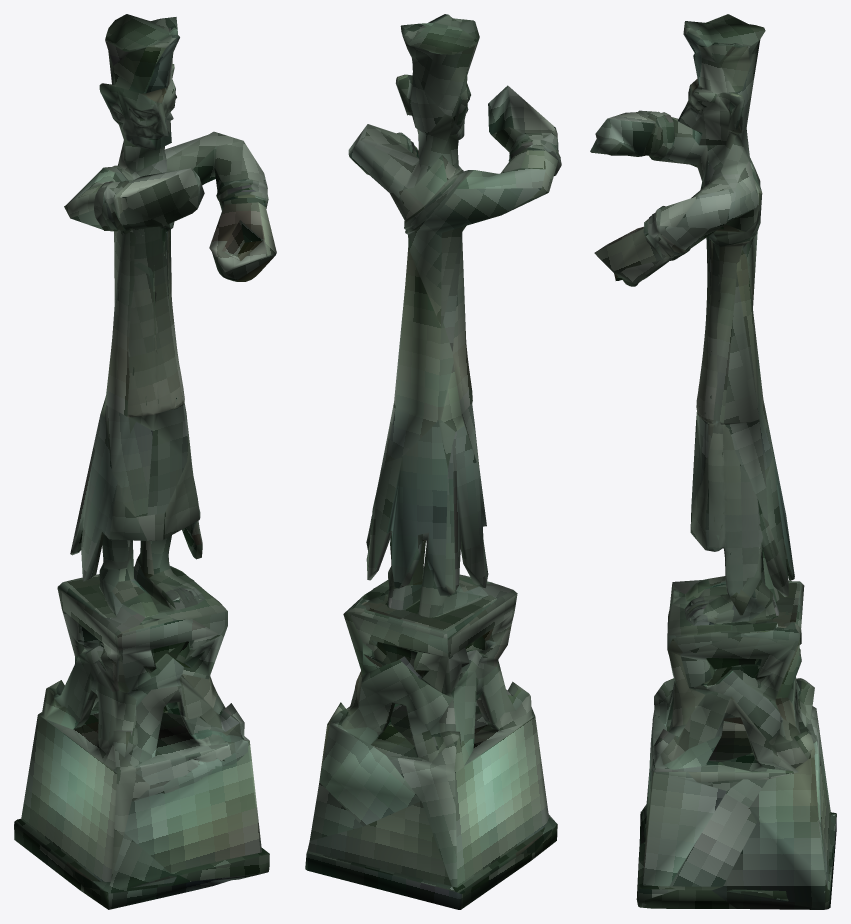
Rendered from figure-great.glb.
The picture shows the model from 3 angles, left to right: view 1: azimuth 30°, elevation 25°; view 2: azimuth 150°, elevation 25°; view 3: azimuth 270°, elevation 25°; orthographic projection. The views are drawn at different scales.
Parts seen in each view (by area): view 1: node_0; view 2: node_0; view 3: node_0.
Part boxes in pixels (x1,y1,x2,y2): node_0: [14, 14, 276, 909]; node_0: [305, 14, 561, 909]; node_0: [590, 14, 836, 909].
Size of the model in its own units: 0.2735 by 1.13 by 0.302.
Materials: 1 (1 with a texture image).
